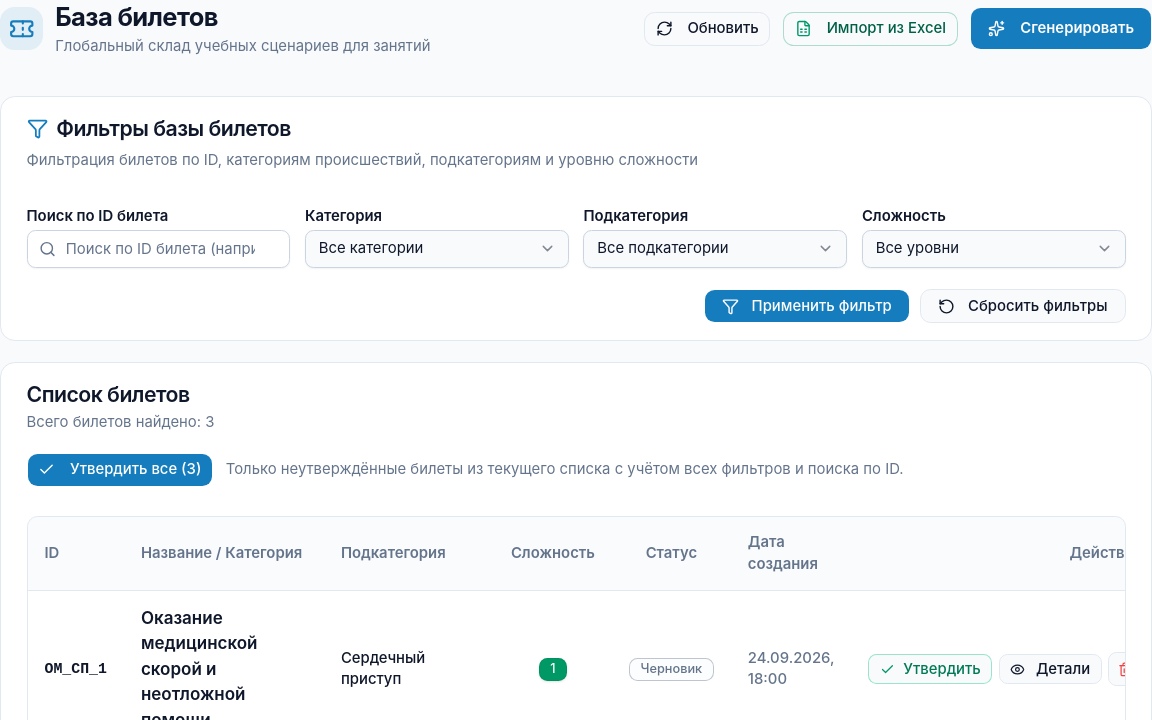
Test case: 27.2 / ТЗ 30: База билетов и генерация › Modal details has only one "Редактировать" button in the footer and none in the header
This screenshot has width=1152, height=720.
What coordinates should you click on to do the following:
click the button "Детали"
I would click on:
 (1050, 669)
Its box is [999,654,1102,684].
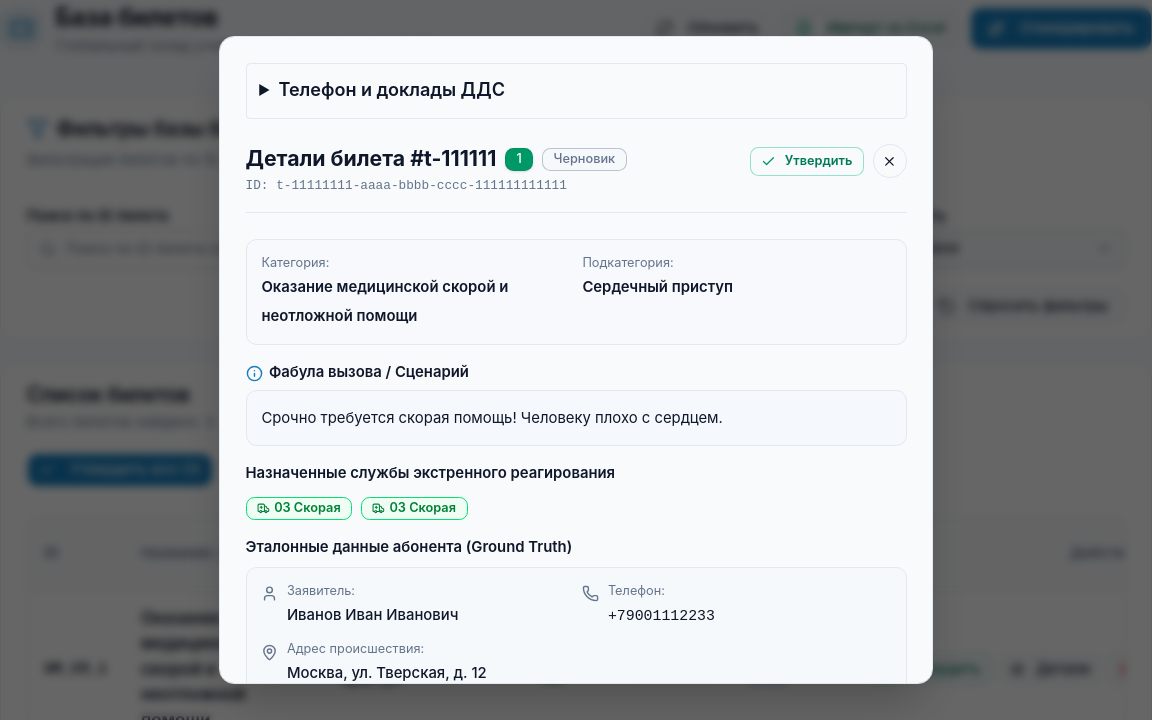
Expected: the dialog is shown
Expected: the button with test id "modal-dismiss-btn" is shown, [872,144,906,178]
